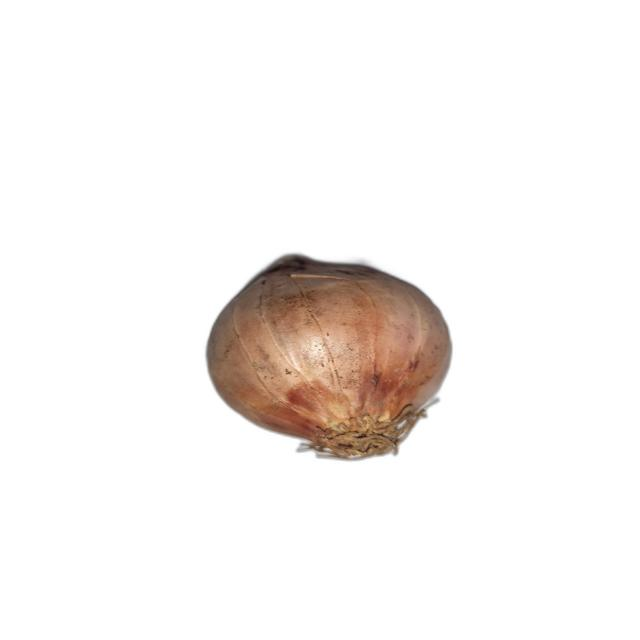onion: (201, 252, 455, 462)
